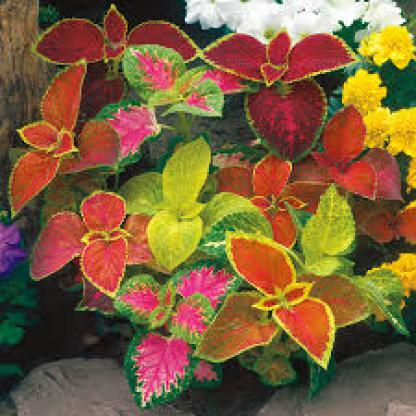Bunga Coleus: (33, 21, 388, 397)
